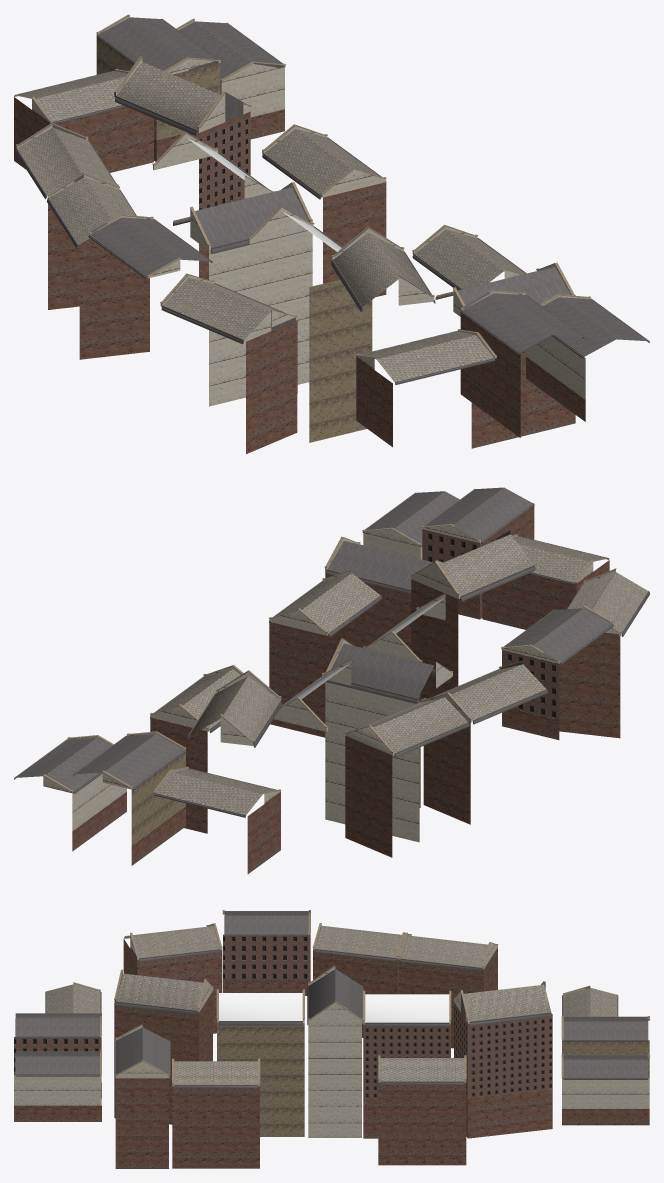
The picture shows the model from 3 angles, top to bottom: view 1: azimuth 30°, elevation 25°; view 2: azimuth 150°, elevation 25°; view 3: azimuth 270°, elevation 25°; orthographic projection. The views are drawn at different scales.
Parts seen in each view (by area): view 1: body0_model0_lod0_mesh3, body0_model0_lod0_mesh6, body0_model0_lod0_mesh0, body0_model0_lod0_mesh4, body0_model0_lod0_mesh8, body0_model0_lod0_mesh5, body0_model0_lod0_mesh2, body0_model0_lod0_mesh1, body0_model0_lod0_mesh7; view 2: body0_model0_lod0_mesh3, body0_model0_lod0_mesh0, body0_model0_lod0_mesh6, body0_model0_lod0_mesh4, body0_model0_lod0_mesh2, body0_model0_lod0_mesh5, body0_model0_lod0_mesh8, body0_model0_lod0_mesh1, body0_model0_lod0_mesh7; view 3: body0_model0_lod0_mesh3, body0_model0_lod0_mesh0, body0_model0_lod0_mesh6, body0_model0_lod0_mesh2, body0_model0_lod0_mesh4, body0_model0_lod0_mesh8, body0_model0_lod0_mesh7, body0_model0_lod0_mesh5.
Part boxes in pixels (x1,y1,x2,y2): body0_model0_lod0_mesh3: (14, 97, 585, 454); body0_model0_lod0_mesh6: (16, 62, 525, 382); body0_model0_lod0_mesh0: (14, 17, 649, 384); body0_model0_lod0_mesh4: (16, 16, 590, 406); body0_model0_lod0_mesh8: (96, 35, 372, 442); body0_model0_lod0_mesh5: (16, 14, 590, 357); body0_model0_lod0_mesh2: (199, 117, 250, 209); body0_model0_lod0_mesh1: (15, 19, 648, 354); body0_model0_lod0_mesh7: (187, 138, 341, 251); body0_model0_lod0_mesh3: (72, 503, 620, 873); body0_model0_lod0_mesh0: (14, 487, 649, 817); body0_model0_lod0_mesh6: (156, 534, 648, 814); body0_model0_lod0_mesh4: (43, 525, 621, 842); body0_model0_lod0_mesh2: (422, 529, 559, 719); body0_model0_lod0_mesh5: (43, 524, 621, 793); body0_model0_lod0_mesh8: (131, 694, 420, 845); body0_model0_lod0_mesh1: (15, 489, 608, 790); body0_model0_lod0_mesh7: (281, 598, 444, 707); body0_model0_lod0_mesh3: (14, 939, 649, 1168); body0_model0_lod0_mesh0: (15, 911, 649, 1088); body0_model0_lod0_mesh6: (46, 925, 617, 1084); body0_model0_lod0_mesh2: (14, 934, 552, 1099); body0_model0_lod0_mesh4: (14, 924, 649, 1137); body0_model0_lod0_mesh8: (217, 1023, 649, 1136); body0_model0_lod0_mesh7: (218, 993, 449, 1022); body0_model0_lod0_mesh5: (73, 910, 649, 1083).
Size of the model in its own units: 282 by 154 by 570.
Materials: 9 (8 with a texture image).
